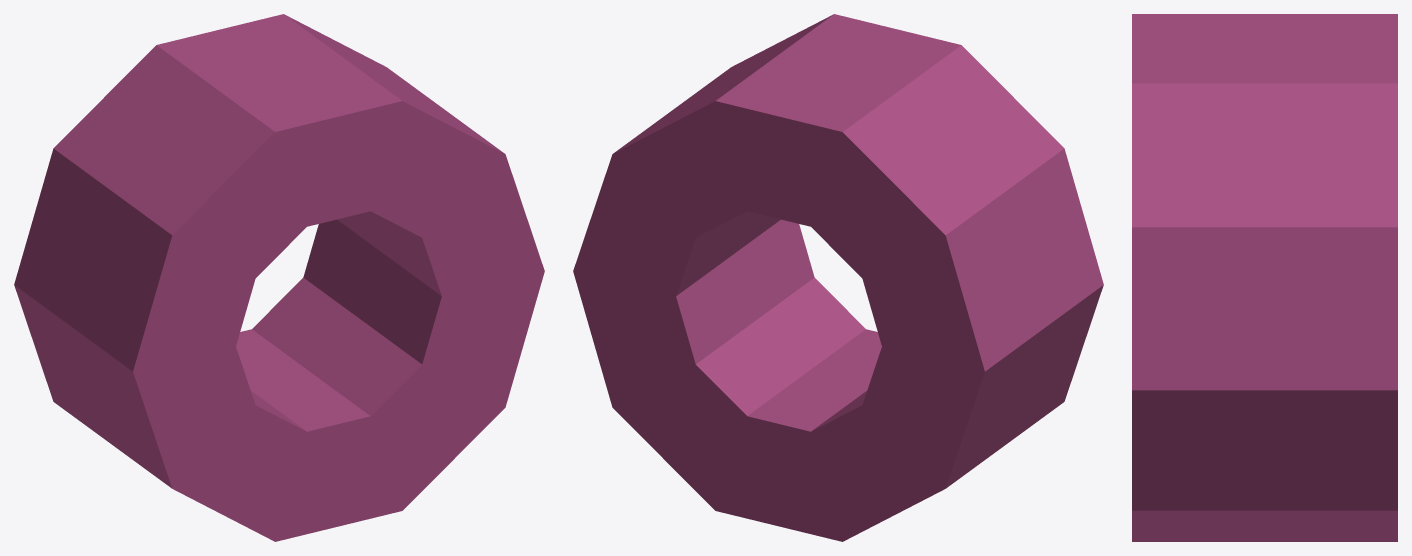
The model's file is wheel11.glb.
3 views of the same model, side by side, from view 1: azimuth 30°, elevation 25°; view 2: azimuth 150°, elevation 25°; view 3: azimuth 270°, elevation 25° (orthographic). The views are drawn at different scales.
Visible parts, largest first — view 1: Mesh_Mesh_head_geo.001_lambert2SG.001; view 2: Mesh_Mesh_head_geo.001_lambert2SG.001; view 3: Mesh_Mesh_head_geo.001_lambert2SG.001.
Boxes of the visible parts, box(x1,y1,x2,y2) form: Mesh_Mesh_head_geo.001_lambert2SG.001: box(14, 14, 544, 541); Mesh_Mesh_head_geo.001_lambert2SG.001: box(573, 14, 1103, 541); Mesh_Mesh_head_geo.001_lambert2SG.001: box(1132, 14, 1397, 541).
Size of the model in its own units: 0.004 by 0.0038 by 0.002.
